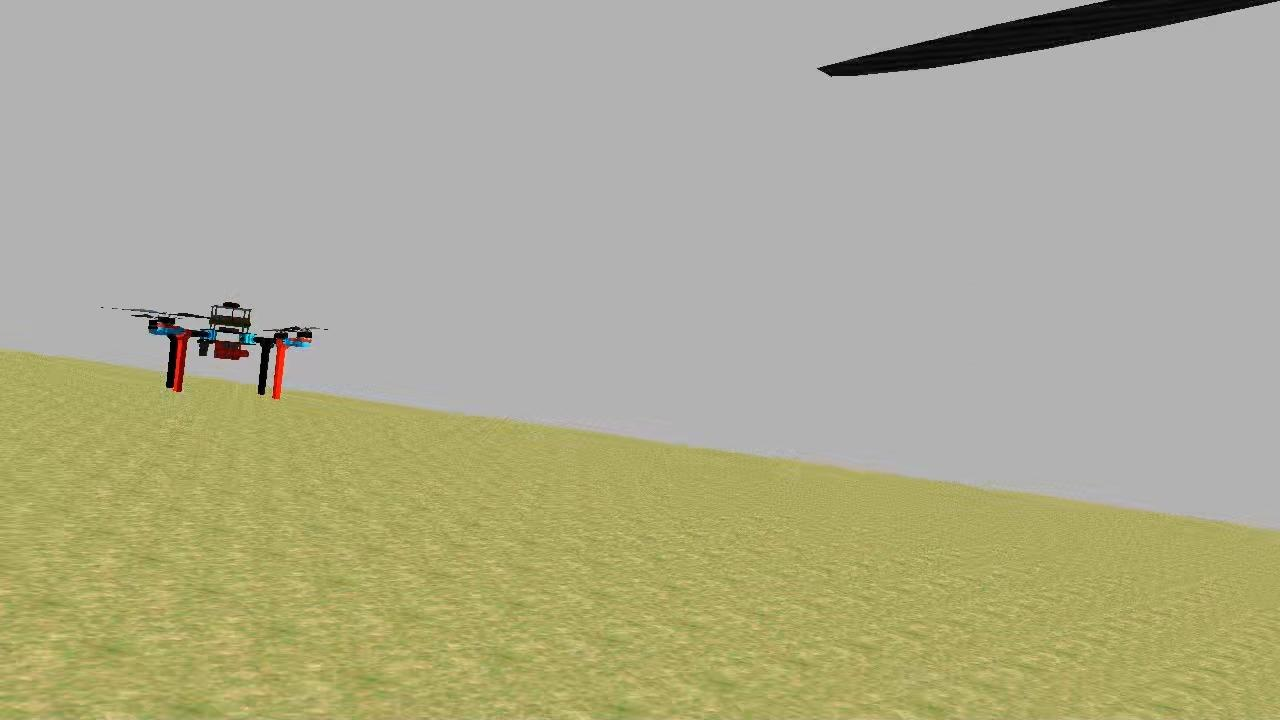UAV: (136, 292, 324, 400)
